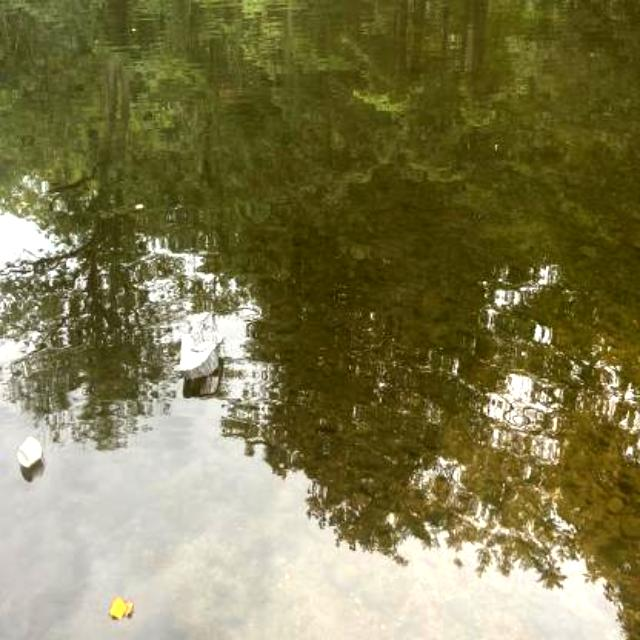Metal: (175, 321, 228, 385)
Paper: (14, 432, 48, 474)
